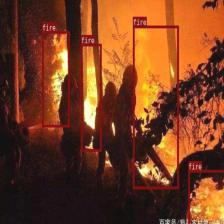fire: (133, 25, 178, 189), (42, 31, 69, 127), (81, 43, 101, 151), (187, 170, 224, 224)
